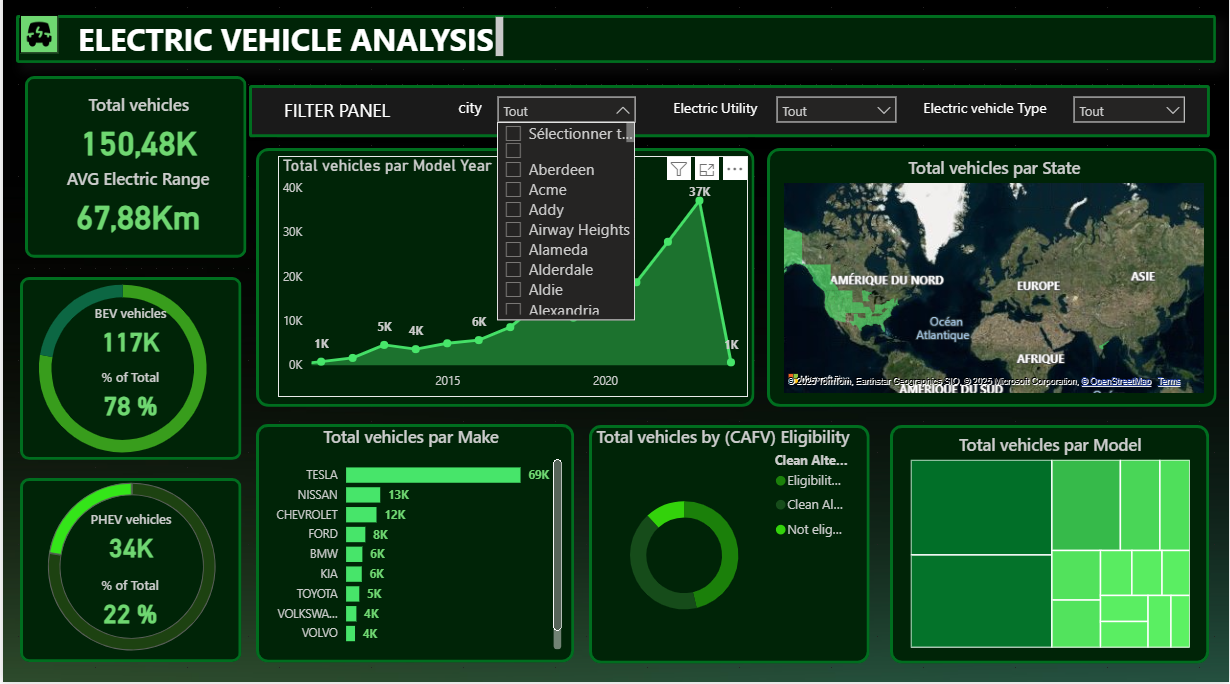

The dashboard page shown, as its layout file describes it:
{"tool":"powerbi","page":{"name":"Page 1","canvas":[1280,720],"ordinal":0},"visuals":[{"type":"shape","box":[13.9,23.7,1252.2,50.1],"z":0},{"type":"textbox","box":[73.5,21.3,453.9,52.1],"z":1000},{"type":"shape","box":[22.5,87.7,231.1,189.6],"z":2000},{"type":"card","title":"Total vehicles","fields":{"Values":["Electric_Vehicle_Population_Data.Total vehicles"]},"box":[47.3,105.7,189.2,76.5],"z":3000},{"type":"card","title":"AVG Electric Range","fields":{"Values":["Electric_Vehicle_Population_Data.AVG Range"]},"box":[39,182.3,204.5,76.5],"z":4000},{"type":"shape","box":[17.8,297.5,231.1,190.8],"z":5000},{"type":"shape","box":[17.8,507.3,231.1,192],"z":6000},{"type":"donutChart","fields":{"Category":["Electric_Vehicle_Population_Data.Electric Vehicle Type"],"Y":["Electric_Vehicle_Population_Data.Total vehicles"]},"box":[4.7,278.5,239.4,228.7],"z":7000},{"type":"card","title":"BEV vehicles","fields":{"Values":["Electric_Vehicle_Population_Data.BEV Vehicles"]},"box":[73.5,327.1,119.7,58.1],"z":8000},{"type":"card","title":"% of Total","fields":{"Values":["Electric_Vehicle_Population_Data.% of BEV"]},"box":[73.5,393.5,119.7,58.1],"z":9000},{"type":"donutChart","fields":{"Category":["Electric_Vehicle_Population_Data.Electric Vehicle Type"],"Y":["Electric_Vehicle_Population_Data.Total vehicles"]},"box":[14.2,484.7,239.4,228.7],"z":10000},{"type":"card","title":"PHEV vehicles","fields":{"Values":["Electric_Vehicle_Population_Data.PHEV Vehicles"]},"box":[64,541.6,139.9,58.1],"z":11000},{"type":"card","title":"% of Total","fields":{"Values":["Electric_Vehicle_Population_Data.% of PHEV"]},"box":[62.8,610.4,139.9,58.1],"z":12000},{"type":"shape","box":[257.2,97.2,1002.7,54.5],"z":13000},{"type":"shape","box":[264.3,162.4,520.3,270.2],"z":14000},{"type":"areaChart","fields":{"Category":["Electric_Vehicle_Population_Data.Model Year"],"Y":["Electric_Vehicle_Population_Data.Total vehicles"]},"box":[286.8,170.7,490.7,252.4],"z":15000},{"type":"shape","box":[797.6,162.4,469.3,270.2],"z":16000},{"type":"filledMap","fields":{"Category":["Electric_Vehicle_Population_Data.State"]},"box":[809.5,170.7,449.2,252.4],"z":17000},{"type":"shape","box":[264.3,450.4,331.9,248.9],"z":18000},{"type":"barChart","fields":{"Category":["Electric_Vehicle_Population_Data.Make"],"Y":["Electric_Vehicle_Population_Data.Total vehicles"]},"box":[264.3,451.6,323.6,239.4],"z":19000},{"type":"shape","box":[611.6,451.6,292.7,248.9],"z":20000},{"type":"donutChart","title":"Total vehicles by (CAFV) Eligibility","fields":{"Category":["Electric_Vehicle_Population_Data.Clean Alternative Fuel Vehicle (CAFV) Eligibility"],"Y":["Electric_Vehicle_Population_Data.Total vehicles"]},"box":[611.6,451.6,279.7,248.9],"z":21000},{"type":"shape","box":[925.6,451.6,333,248.9],"z":21001},{"type":"treemap","fields":{"Group":["Electric_Vehicle_Population_Data.Model"],"Values":["Electric_Vehicle_Population_Data.Total vehicles"]},"box":[942.2,459.9,301,228.7],"z":21002},{"type":"textbox","box":[286.8,105.5,123.3,35.6],"z":21003},{"type":"slicer","fields":{"Values":["Electric_Vehicle_Population_Data.City"]},"box":[506.1,99.6,163.6,47.4],"z":21004},{"type":"textbox","box":[463.4,104.3,48.6,36.7],"z":21005},{"type":"textbox","box":[688.6,105.5,109,30.8],"z":21006},{"type":"slicer","fields":{"Values":["Electric_Vehicle_Population_Data.Electric Utility"]},"box":[797.6,99.6,144.6,47.4],"z":21007},{"type":"slicer","fields":{"Values":["Electric_Vehicle_Population_Data.Electric Vehicle Type"]},"box":[1107,99.6,136.3,47.4],"z":21008},{"type":"textbox","box":[942.2,105.5,164.7,30.8],"z":21009},{"type":"image","box":[17.8,23.7,40,40],"z":21010}]}

Visuals, with their boxes in screenshot pixels (x1, y1, x2, y2), scaled from the page's 1280x720 canvas onto the 1230x684 screenshot:
shape: crop(13, 23, 1217, 70)
textbox: crop(71, 20, 507, 70)
shape: crop(22, 83, 244, 263)
"Total vehicles" card: crop(45, 100, 227, 173)
"AVG Electric Range" card: crop(37, 173, 234, 246)
shape: crop(17, 283, 239, 464)
shape: crop(17, 482, 239, 664)
donutChart - Electric_Vehicle_Population_Data.Electric Vehicle Type x Electric_Vehicle_Population_Data.Total vehicles: crop(5, 265, 235, 482)
"BEV vehicles" card: crop(71, 311, 186, 366)
"% of Total" card: crop(71, 374, 186, 429)
donutChart - Electric_Vehicle_Population_Data.Electric Vehicle Type x Electric_Vehicle_Population_Data.Total vehicles: crop(14, 460, 244, 678)
"PHEV vehicles" card: crop(62, 515, 196, 570)
"% of Total" card: crop(60, 580, 195, 635)
shape: crop(247, 92, 1211, 144)
shape: crop(254, 154, 754, 411)
areaChart - Electric_Vehicle_Population_Data.Model Year x Electric_Vehicle_Population_Data.Total vehicles: crop(276, 162, 747, 402)
shape: crop(766, 154, 1217, 411)
filledMap - Electric_Vehicle_Population_Data.State: crop(778, 162, 1210, 402)
shape: crop(254, 428, 573, 664)
barChart - Electric_Vehicle_Population_Data.Make x Electric_Vehicle_Population_Data.Total vehicles: crop(254, 429, 565, 656)
shape: crop(588, 429, 869, 665)
"Total vehicles by (CAFV) Eligibility" donutChart: crop(588, 429, 856, 665)
shape: crop(889, 429, 1209, 665)
treemap - Electric_Vehicle_Population_Data.Model x Electric_Vehicle_Population_Data.Total vehicles: crop(905, 437, 1195, 654)
textbox: crop(276, 100, 394, 134)
slicer - Electric_Vehicle_Population_Data.City: crop(486, 95, 644, 140)
textbox: crop(445, 99, 492, 134)
textbox: crop(662, 100, 766, 129)
slicer - Electric_Vehicle_Population_Data.Electric Utility: crop(766, 95, 905, 140)
slicer - Electric_Vehicle_Population_Data.Electric Vehicle Type: crop(1064, 95, 1195, 140)
textbox: crop(905, 100, 1064, 129)
image: crop(17, 23, 56, 61)
